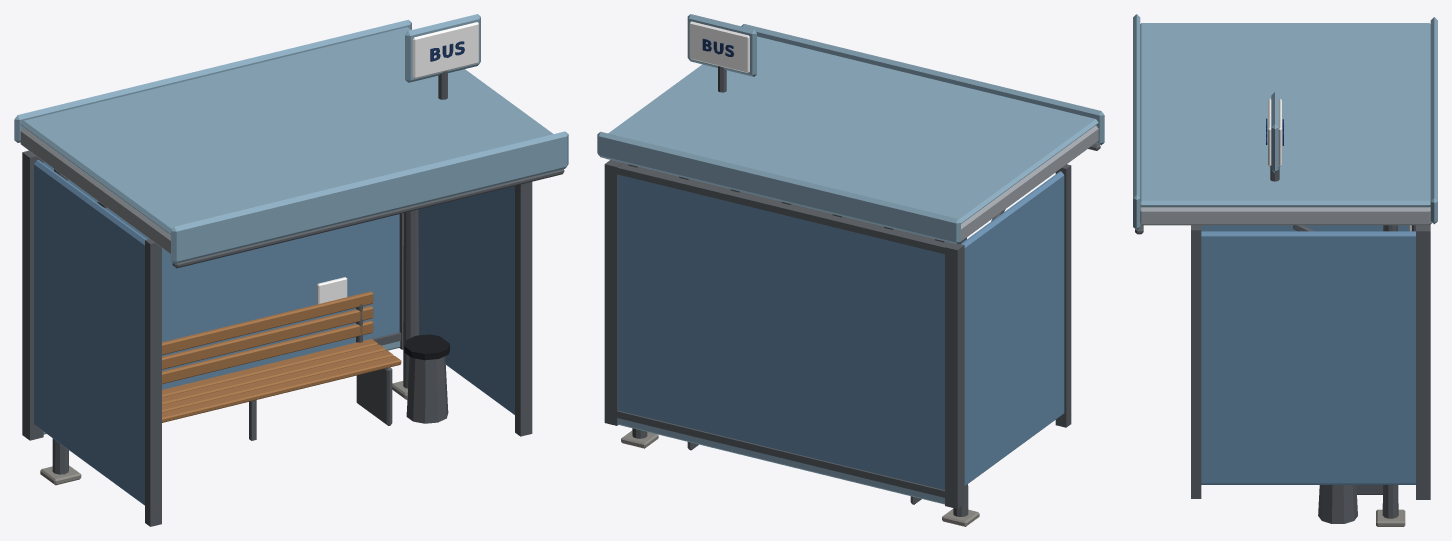
The model's file is VG_BusStop.fbx.
3 renders of one model, left to right at view 1: azimuth 30°, elevation 25°; view 2: azimuth 150°, elevation 25°; view 3: azimuth 270°, elevation 25°, orthographic. The views are drawn at different scales.
Visible parts, largest first — view 1: VG_BusStop_Mesh; view 2: VG_BusStop_Mesh; view 3: VG_BusStop_Mesh.
Part boxes in pixels (x1,y1,x2,y2): VG_BusStop_Mesh: (14, 14, 568, 526); VG_BusStop_Mesh: (597, 14, 1104, 526); VG_BusStop_Mesh: (1133, 14, 1437, 526).
Bounding box in the file's own units: 4 × 4.05 × 2.8.
